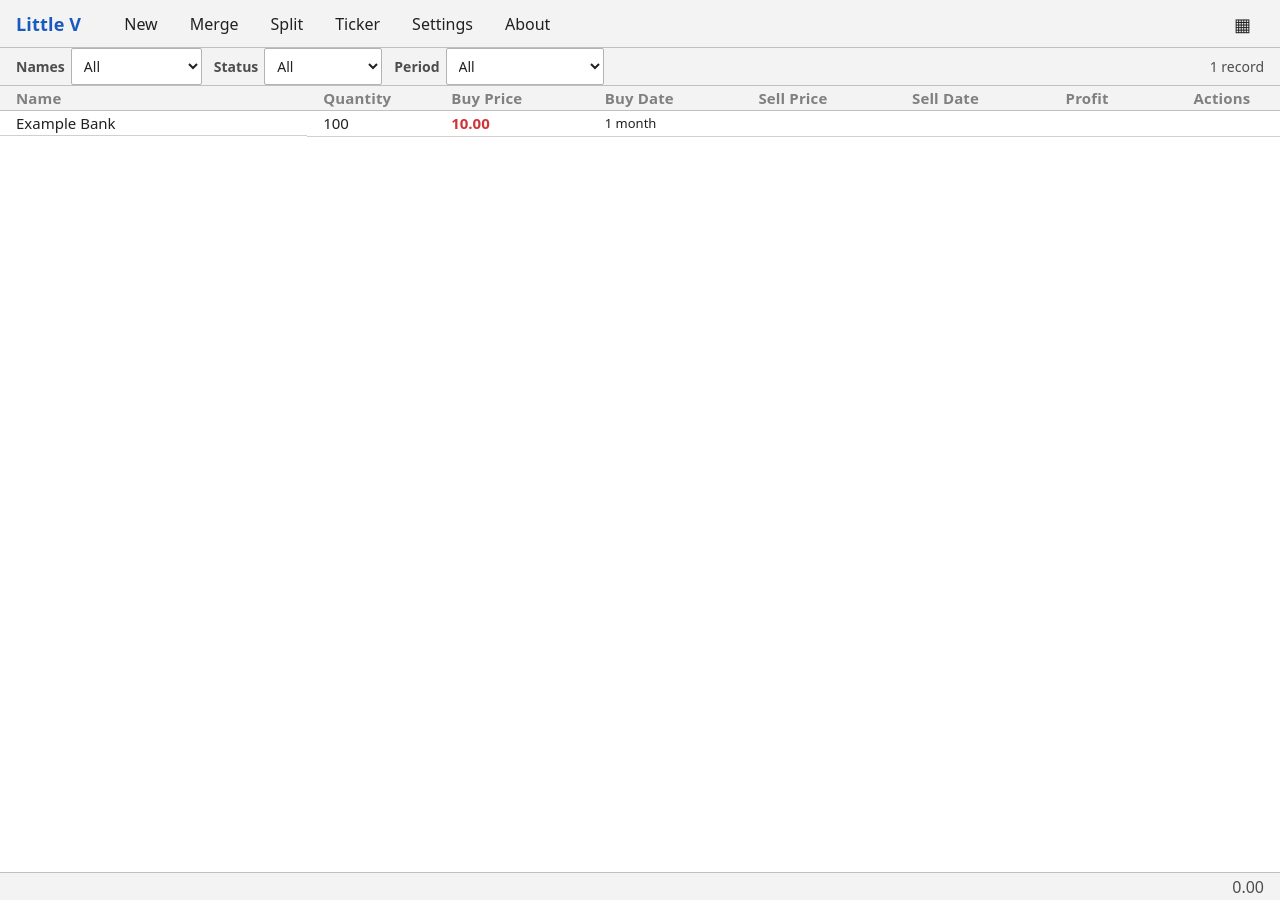
Test: App › shows the selected stock's live quote after the combobox in create and edit dialogs
The image size is (1280, 900).
Expected: the text "Example Bank" is shown, [16,113,116,133]
Click the button "New" at (141, 24), box [111,6,171,42]
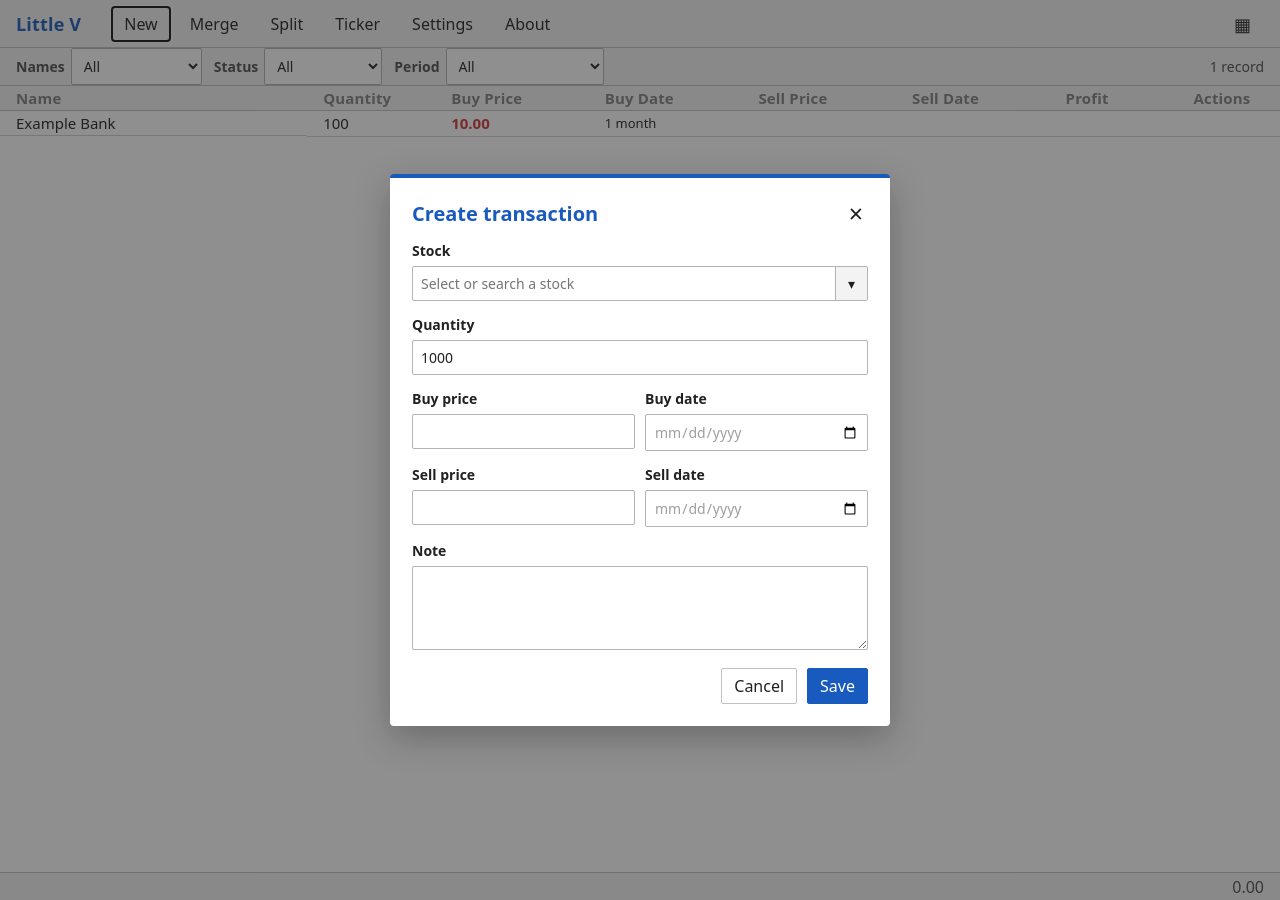
Click the button named "Show existing stocks" at (851, 284), box [835,267,867,300]
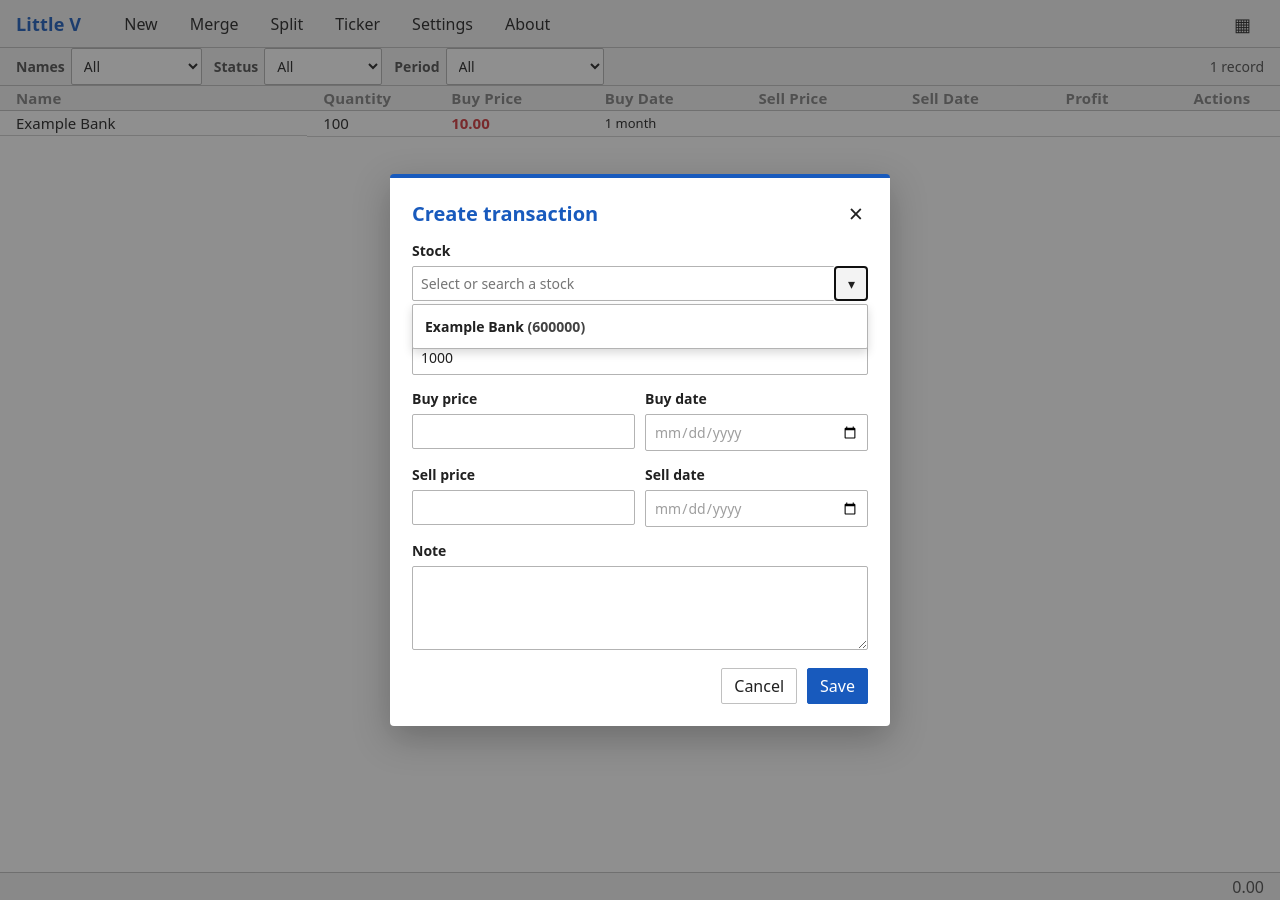
Click the button "Example Bank (600000)" at (474, 326), box [417,309,863,344]
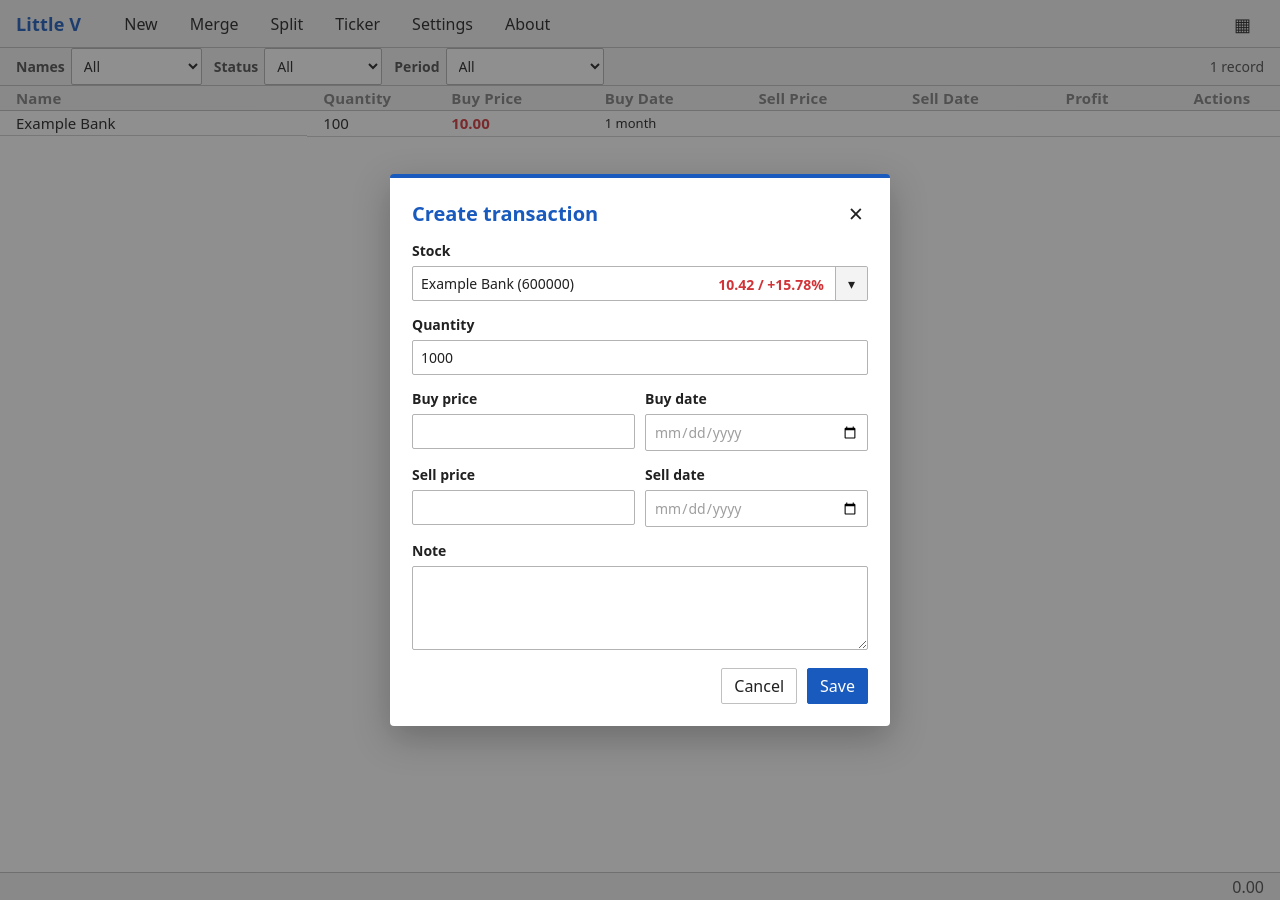
Result: the text "10.42 / +15.78%" is shown at [412,266,868,301]
Click the button "Cancel" at (759, 686), box [721,668,797,704]
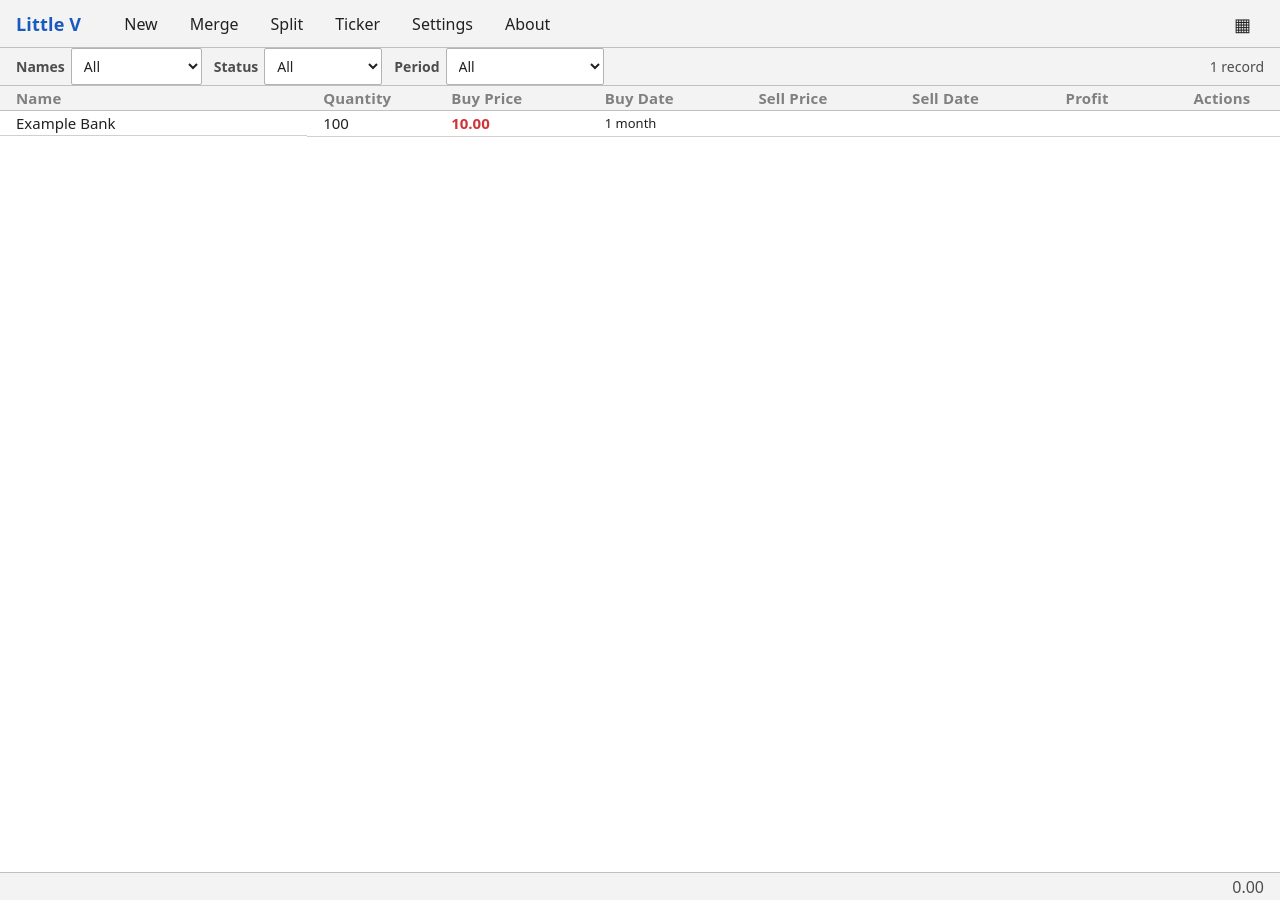
Double-click the text "Example Bank" at (640, 123), box [0,110,1279,136]
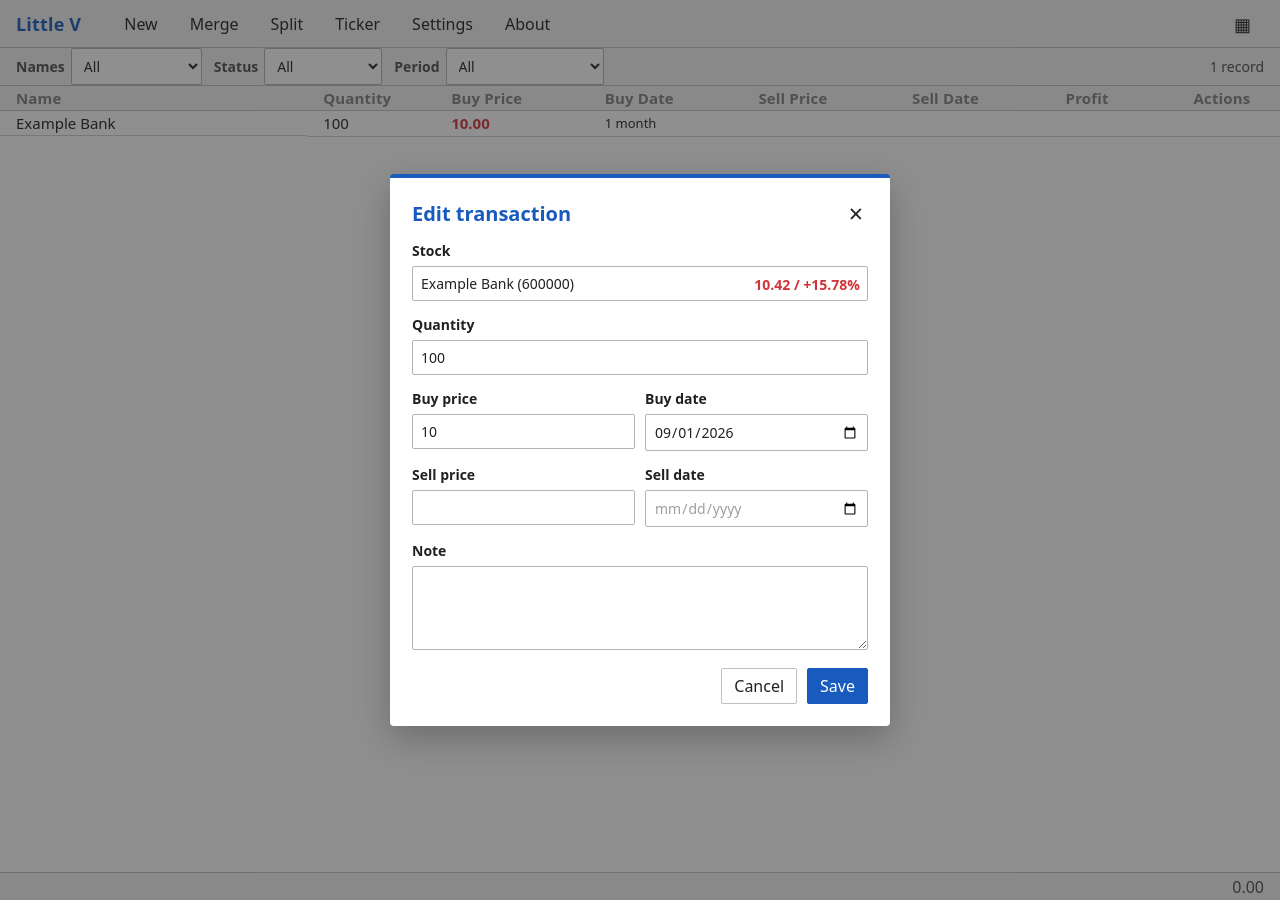
Result: the text "10.42 / +15.78%" is shown at [412,266,868,301]
